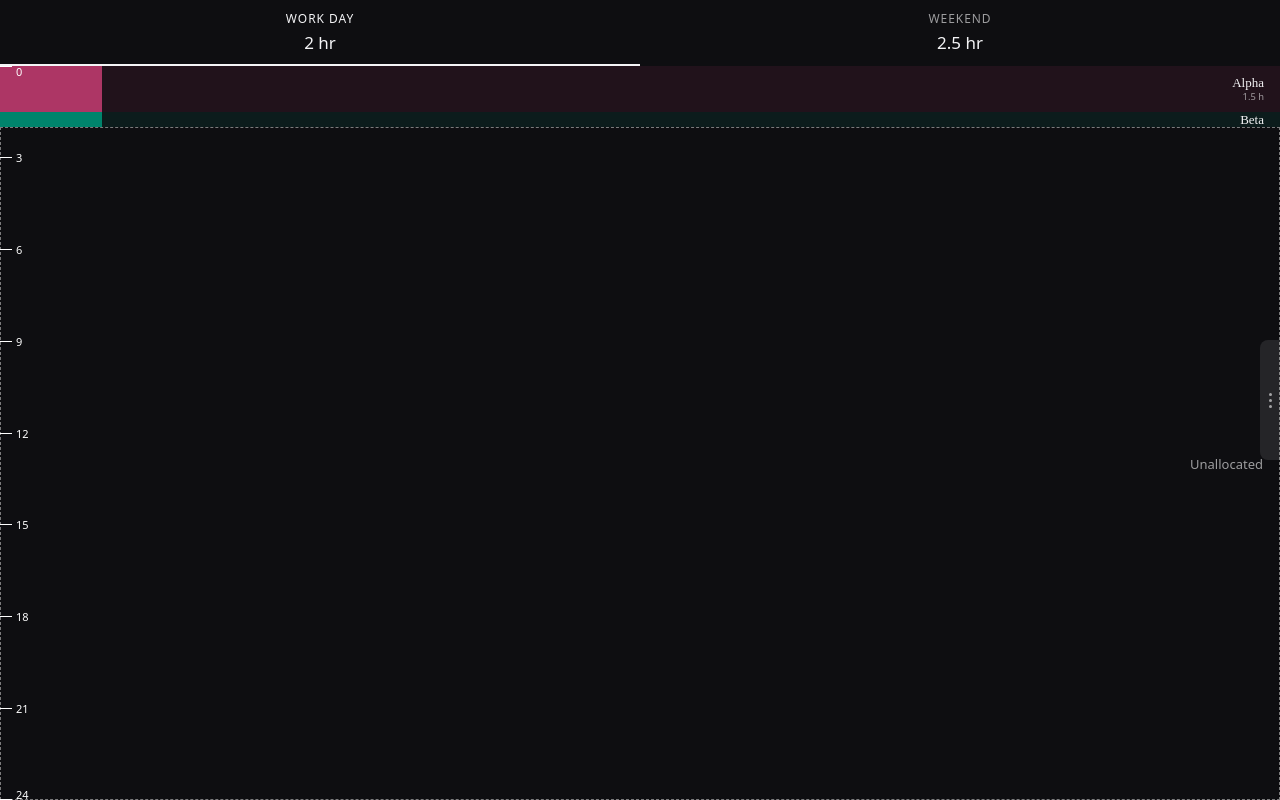
Test: replay and the live header total (§8.1, AC 23) › shows the section’s screens, prefilled from the answer map
Step 1. Click the 1st button named "Alpha" → [640, 89], box [0,66,1279,112]
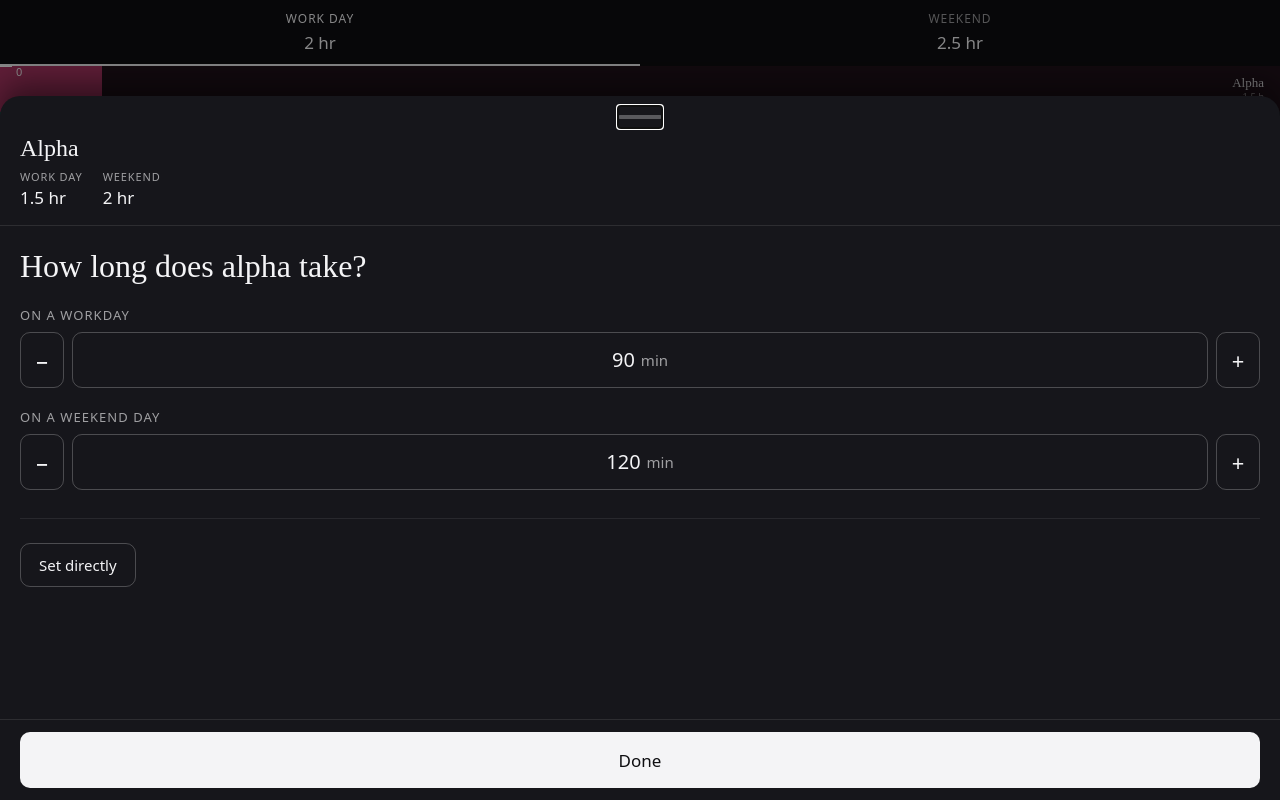
Result: the heading "How long does alpha take?" is shown at [20,248,367,284]
Result: the messages read "90min", "120min", in this order at [72,332,1208,388]; [72,434,1208,490]
